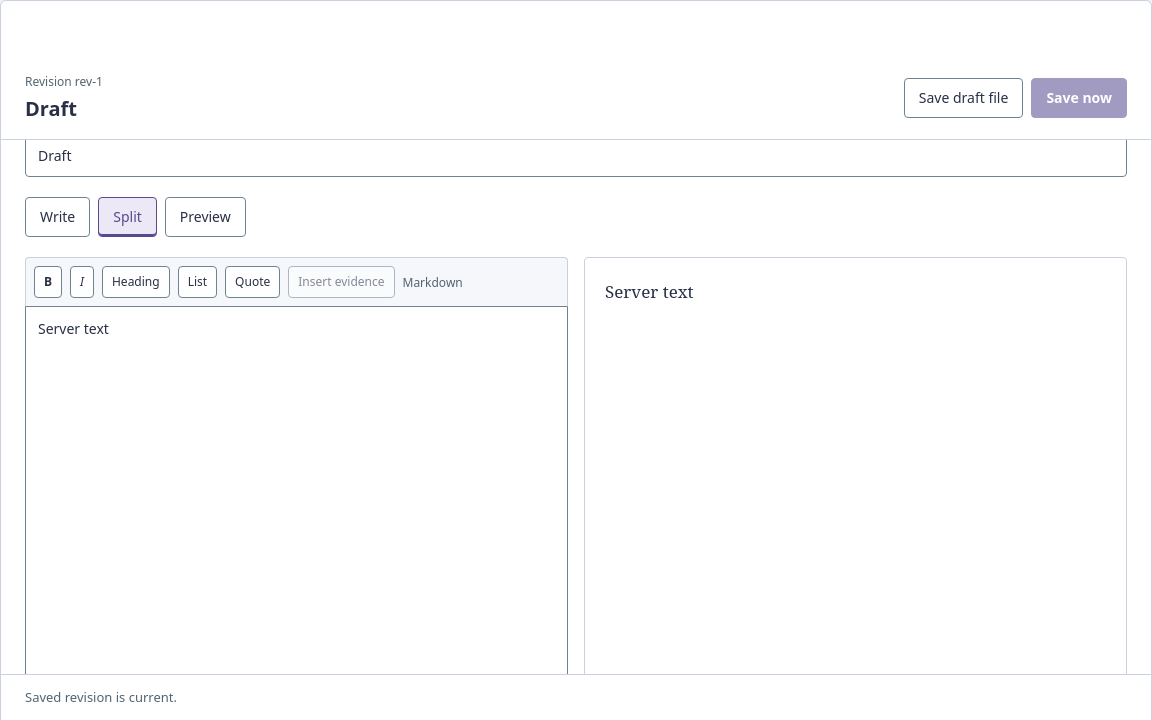
Test: Merlin UI contract › provides real Write, Split, and Preview views
Click the button "Write" at x=58, y=217, box 25,197 -> 90,237
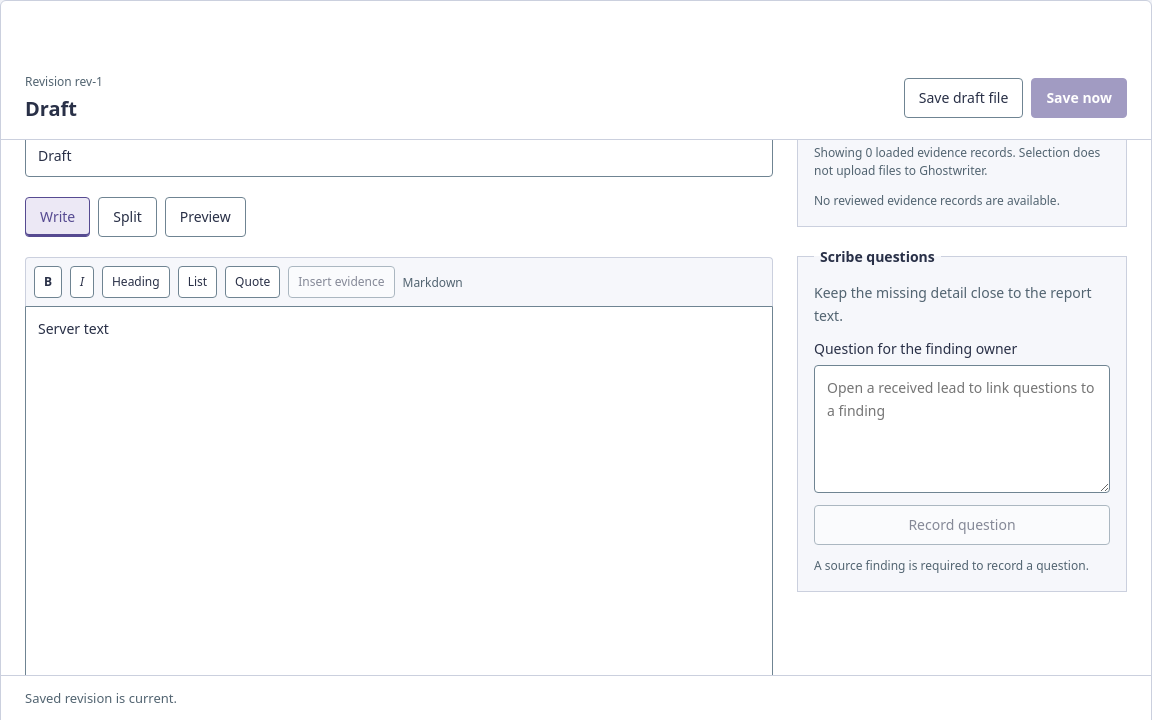
Click the button "Preview" at x=205, y=217, box 165,197 -> 246,237
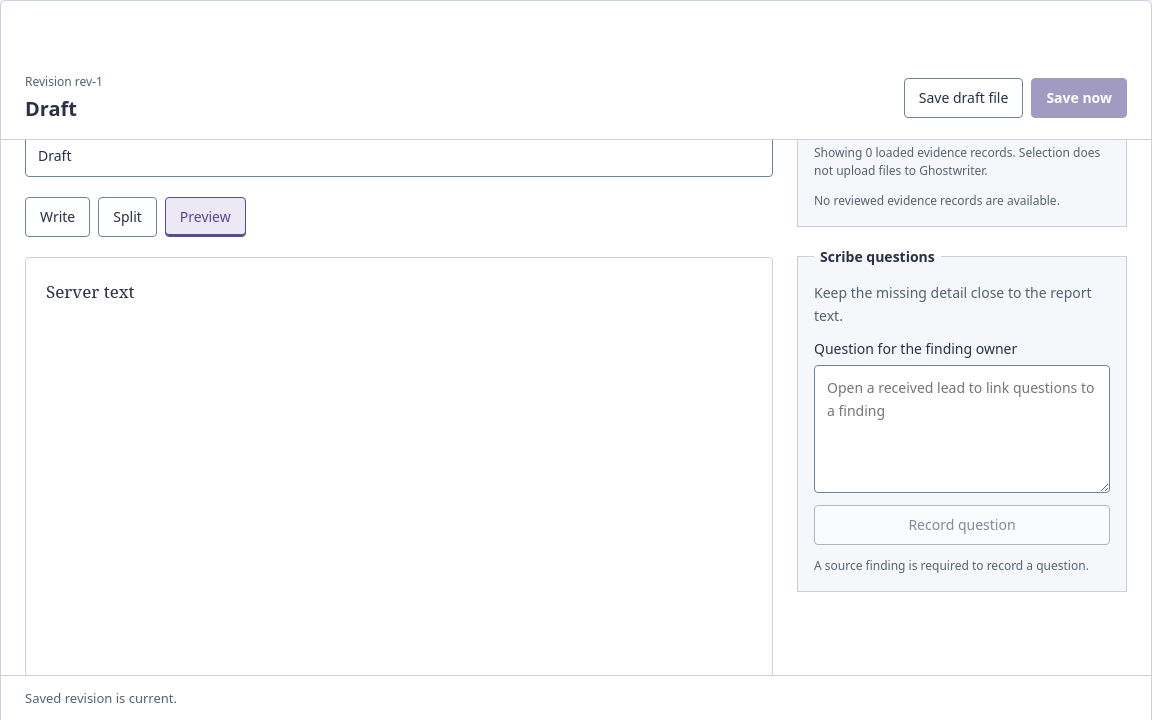
Expected: the element named "Markdown preview" is shown, 25,257 -> 773,677
